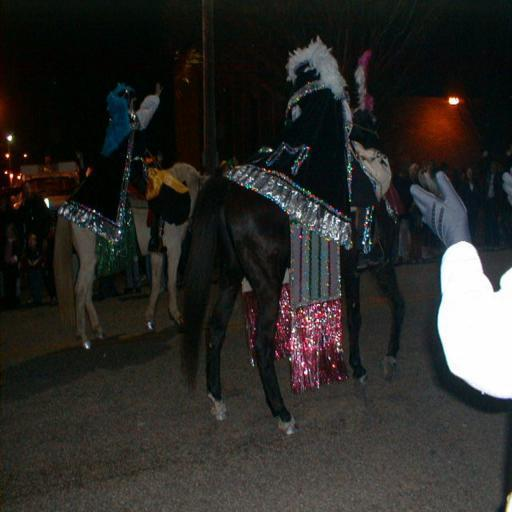horse: (180, 58, 370, 436), (54, 160, 210, 350), (344, 100, 402, 379)
